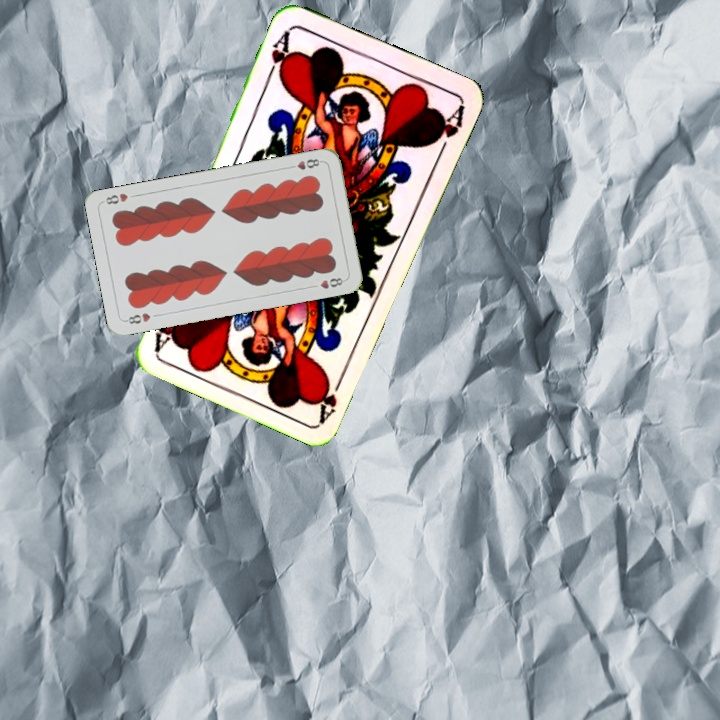H8: (284, 155, 324, 172), (121, 309, 153, 327)
HA: (313, 367, 348, 423), (263, 25, 294, 83)
